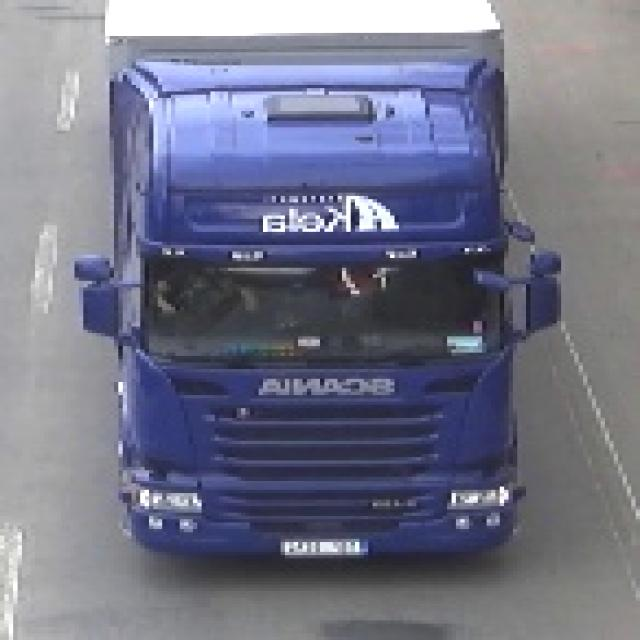truck: (67, 1, 562, 563)
